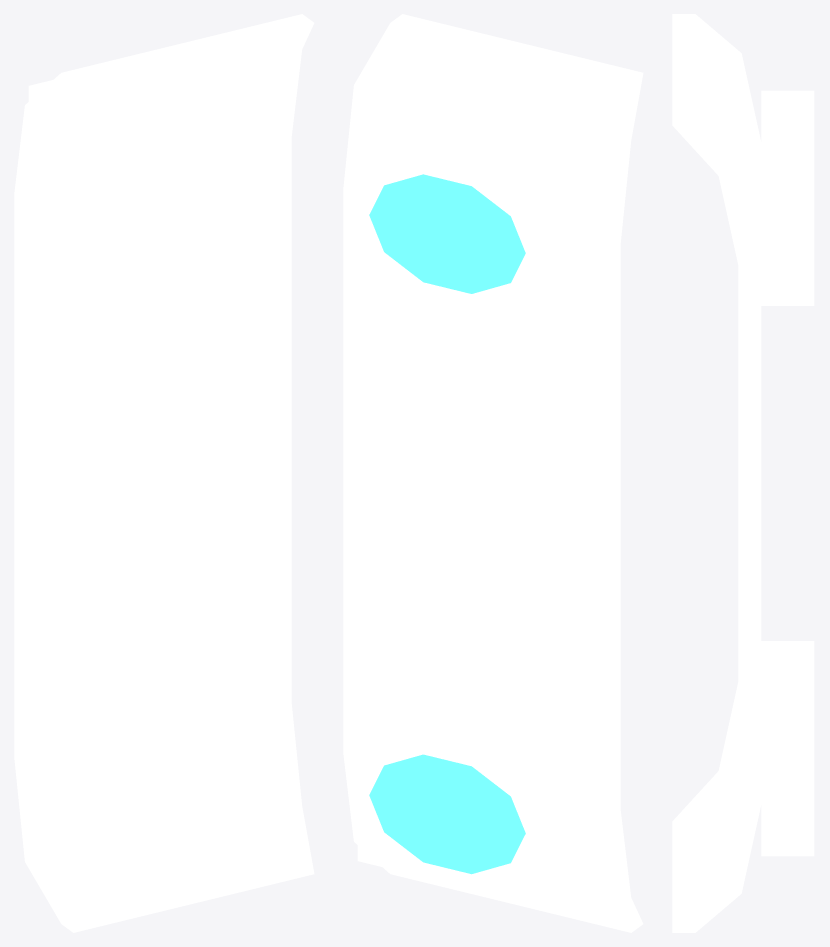
File: hoverboard.glb
The picture shows the model from 3 angles, left to right: view 1: azimuth 30°, elevation 25°; view 2: azimuth 150°, elevation 25°; view 3: azimuth 270°, elevation 25°; orthographic projection. The views are drawn at different scales.
Visible parts, largest first — view 1: hoverboard; view 2: hoverboard; view 3: hoverboard.
Boxes of the visible parts, bbox=[...] form: hoverboard: bbox=[14, 14, 314, 932]; hoverboard: bbox=[343, 14, 643, 932]; hoverboard: bbox=[672, 14, 814, 932].
Size of the model in its own units: 0.44 by 1.35 by 0.217.
